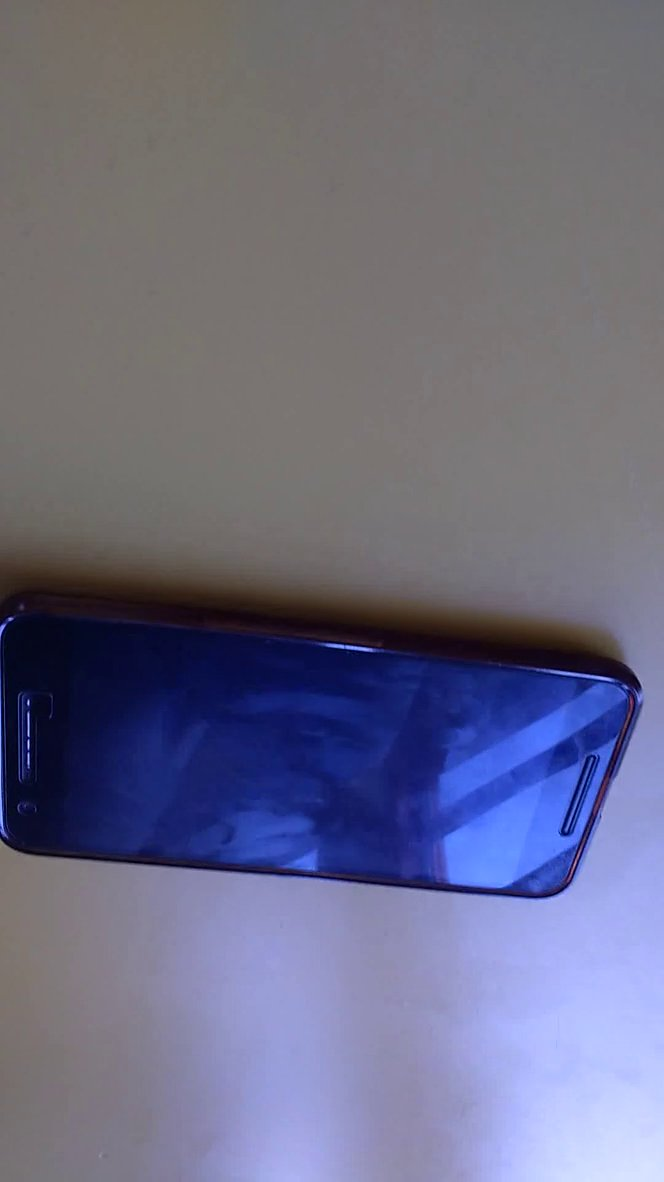phone: (1, 579, 652, 911)
